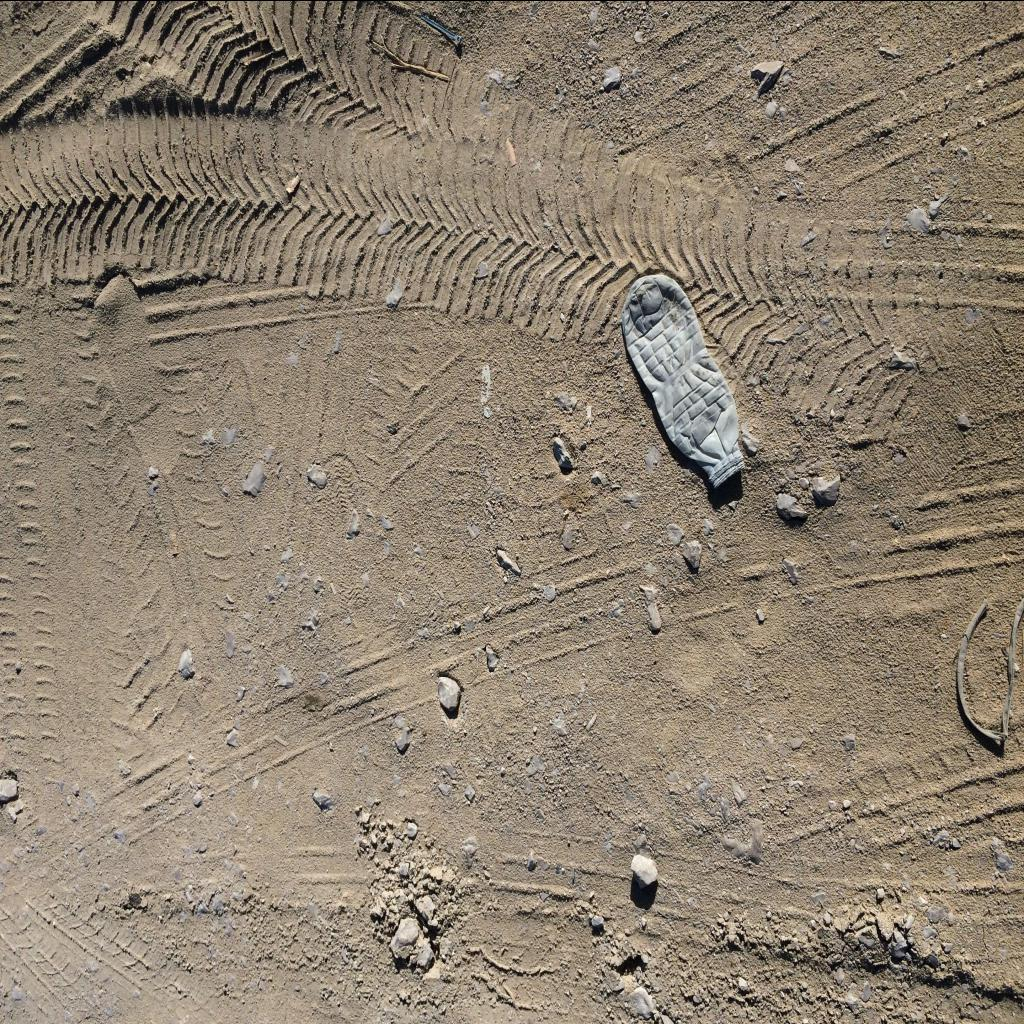Cigarette: (506, 138, 516, 165)
Clear plastic bottle: (622, 274, 746, 488)
Other plastic bottle: (958, 596, 1024, 741), (421, 14, 462, 42)
